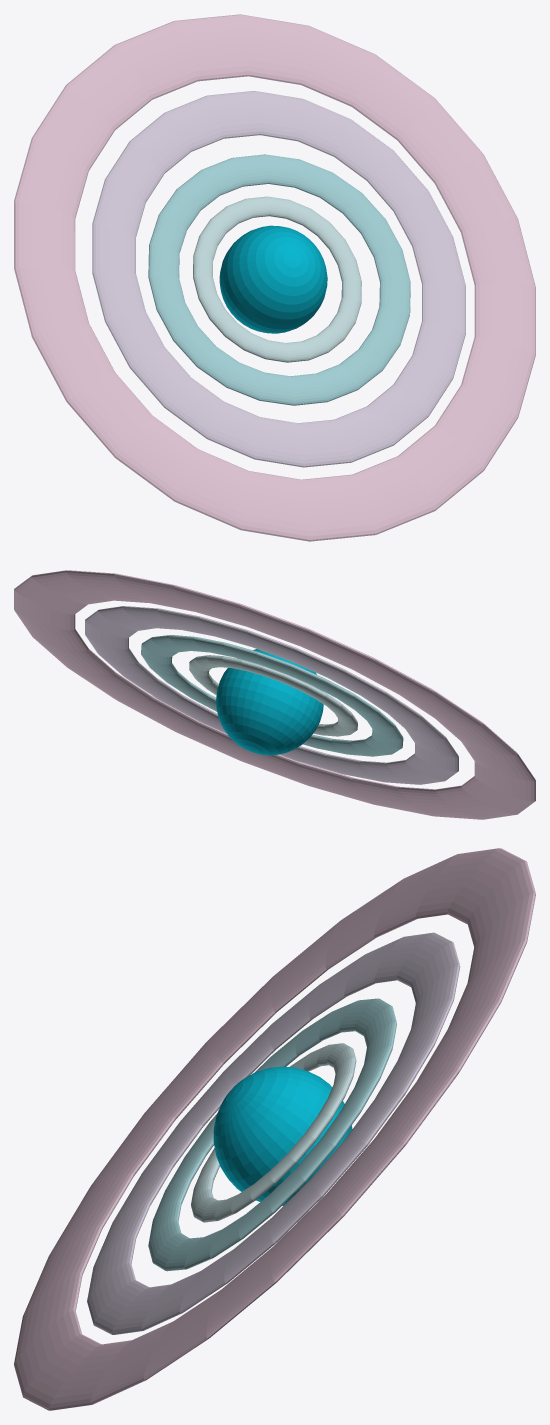
File: raphaelplanet.glb
3 renders of one model, top to bottom at view 1: azimuth 30°, elevation 25°; view 2: azimuth 150°, elevation 25°; view 3: azimuth 270°, elevation 25°, orthographic. The views are drawn at different scales.
Parts seen in each view (by area): view 1: Mesh_Mesh_head_geo.001_lambert2SG.001; view 2: Mesh_Mesh_head_geo.001_lambert2SG.001; view 3: Mesh_Mesh_head_geo.001_lambert2SG.001.
Part boxes in pixels (<box>): Mesh_Mesh_head_geo.001_lambert2SG.001: <box>14,14,535,541</box>; Mesh_Mesh_head_geo.001_lambert2SG.001: <box>14,570,535,819</box>; Mesh_Mesh_head_geo.001_lambert2SG.001: <box>14,848,535,1410</box>.
Size of the model in its own units: 275 by 198 by 198.
